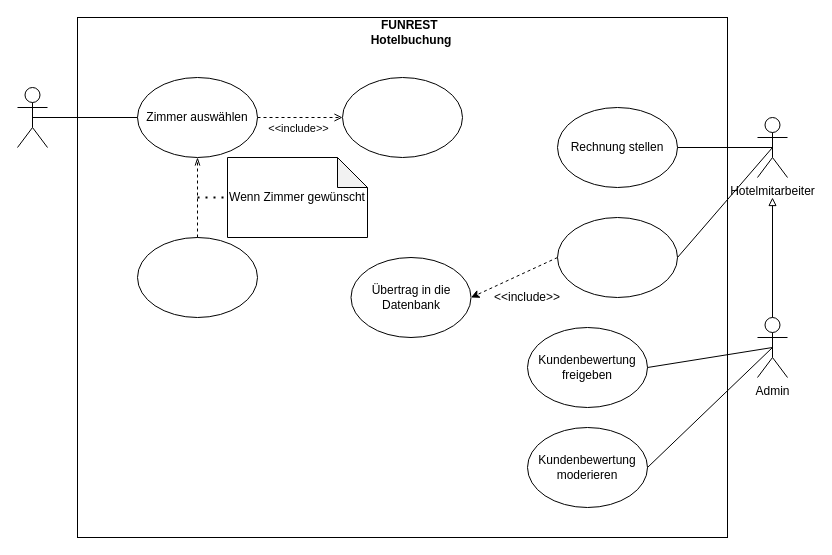
This 832x555 diagram has some shape labels left out. Each missing label, with the box of its shape:
Eintragung neuer Daten: (556, 216, 678, 298)
Gast: (16, 86, 48, 148)
Verfügbarkeit prüfen: (342, 76, 462, 158)
Zimmer buchen: (136, 236, 258, 318)
